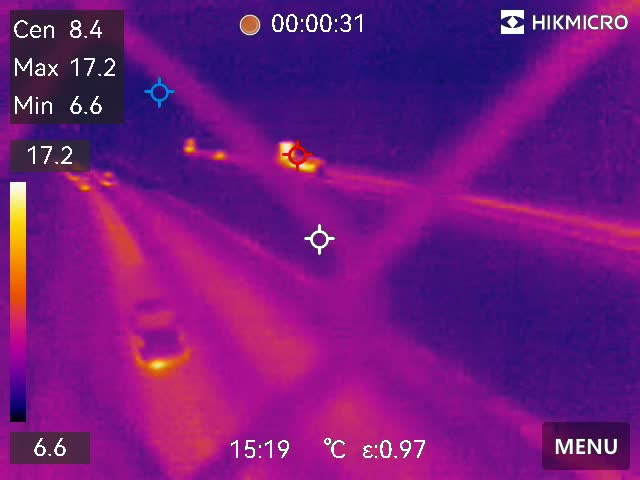heavyTruck: (269, 134, 320, 170)
vehicle: (121, 302, 194, 369)
